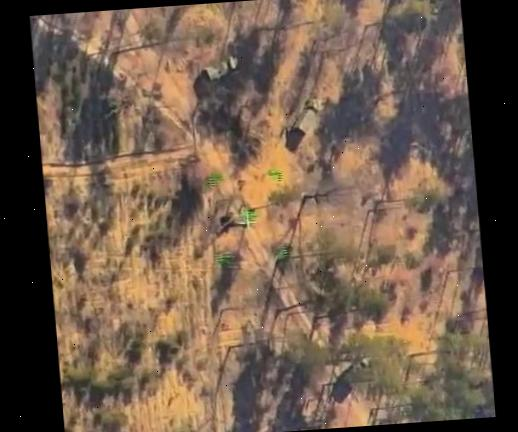truck: (288, 96, 324, 136), (200, 53, 241, 82)
